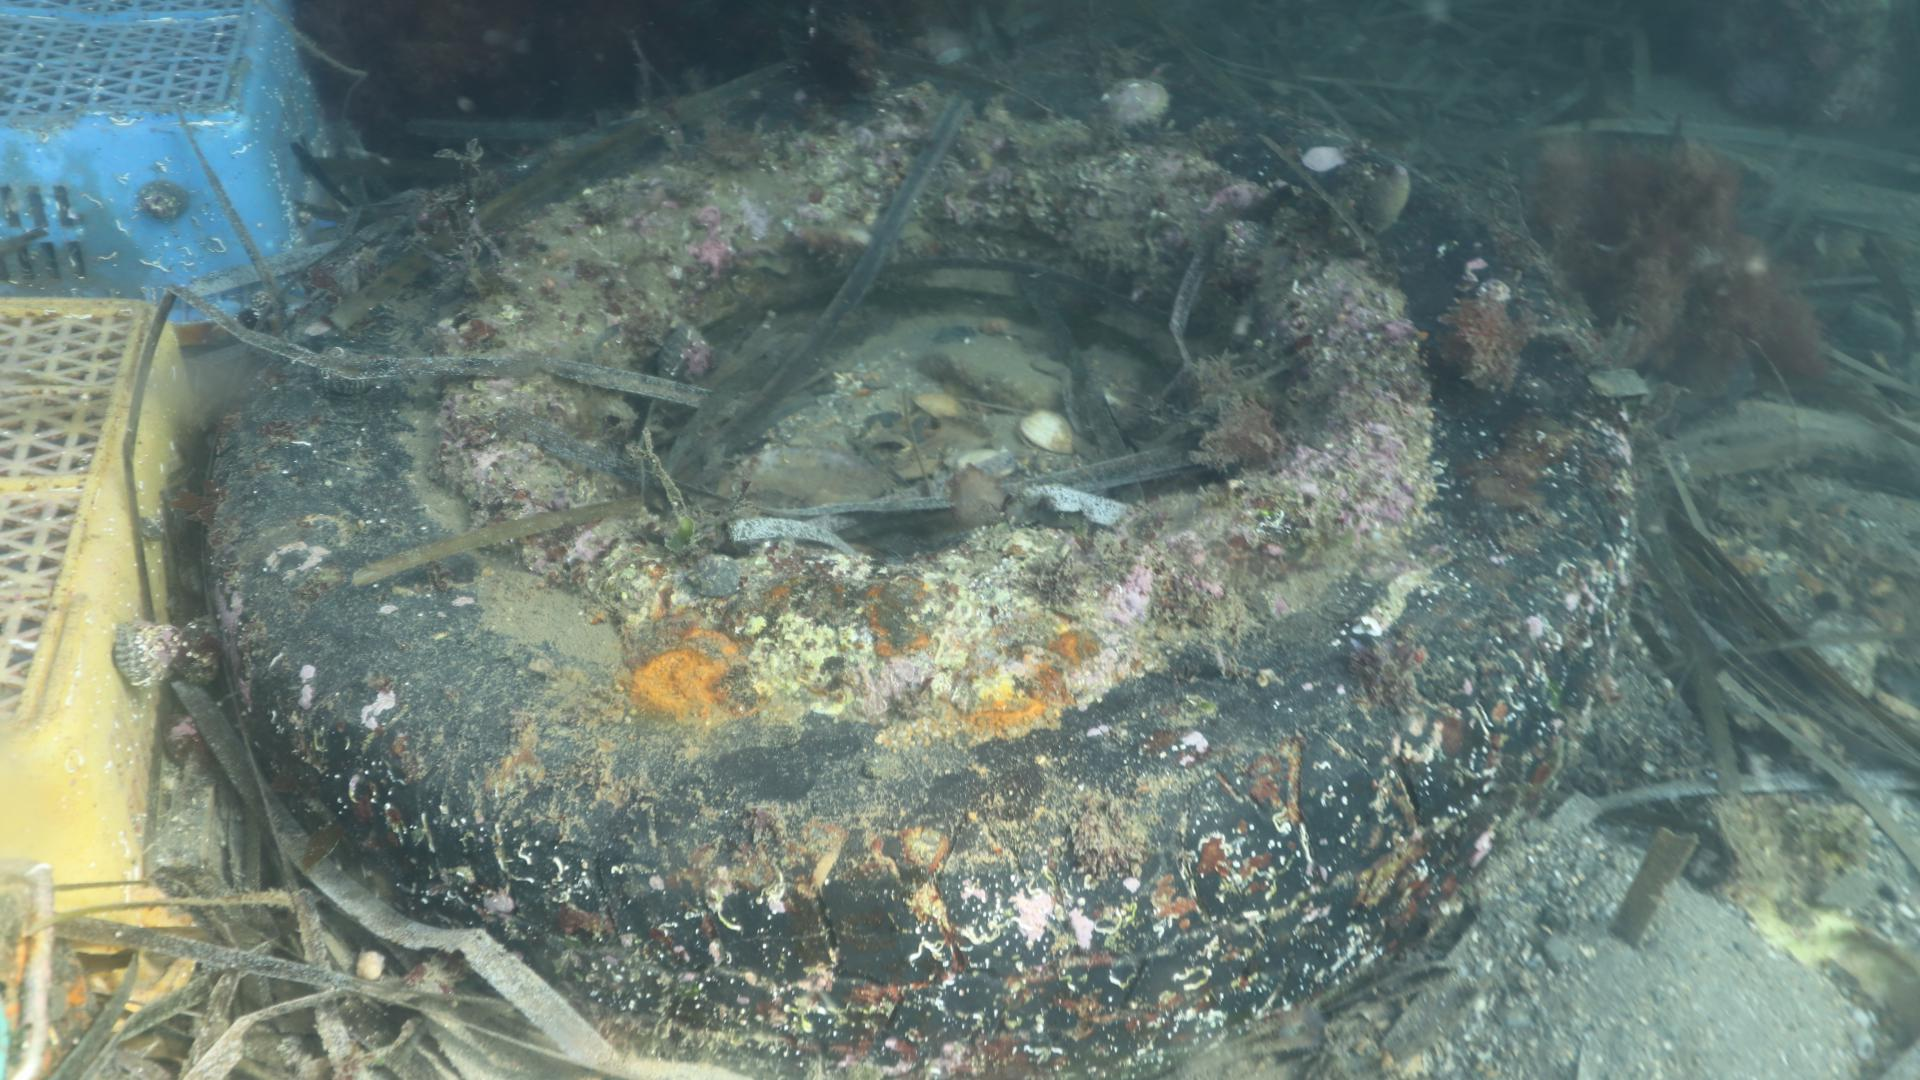tire: (204, 69, 1640, 1080)
